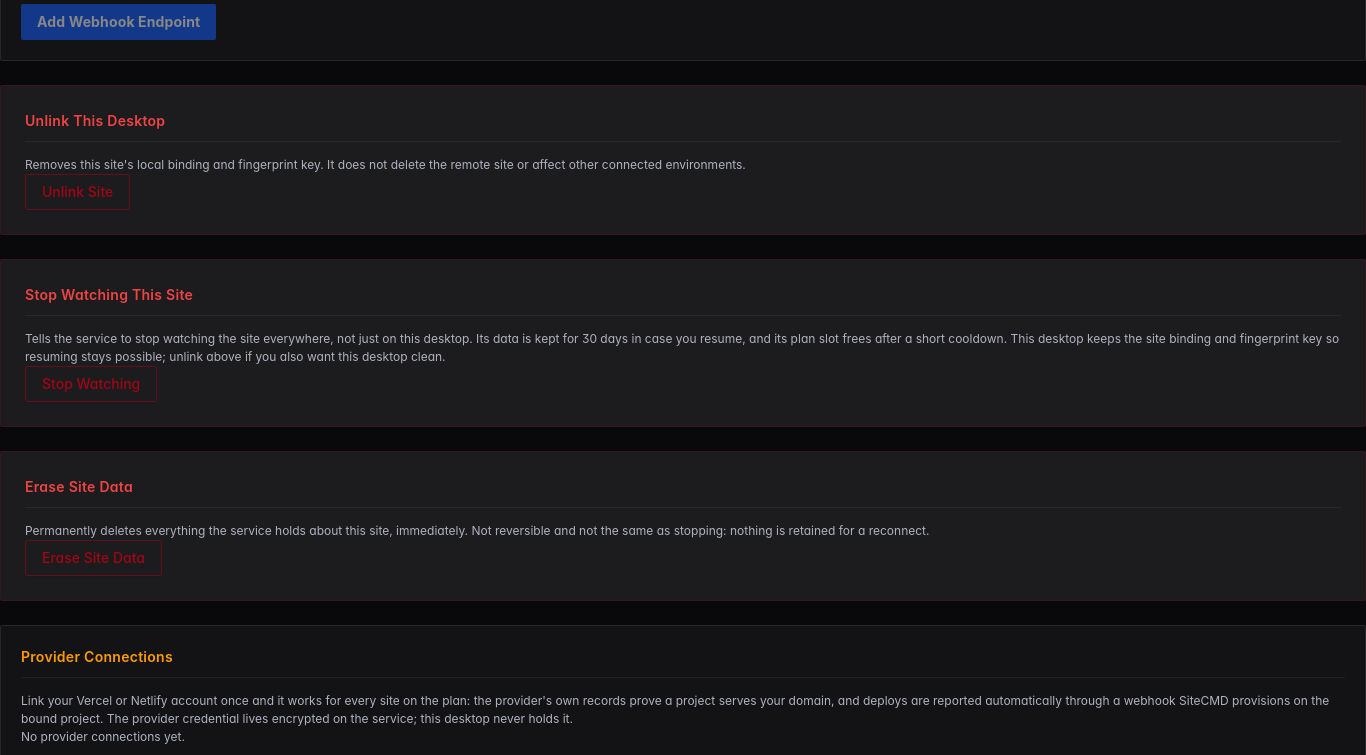
Scenario: ConnectedServiceSection › stops watching remotely, as a distinct act from unlinking this desktop
(page scrolled)
Click the button "Stop Watching".
click(91, 384)  # box [25,366,157,402]
(page scrolled)
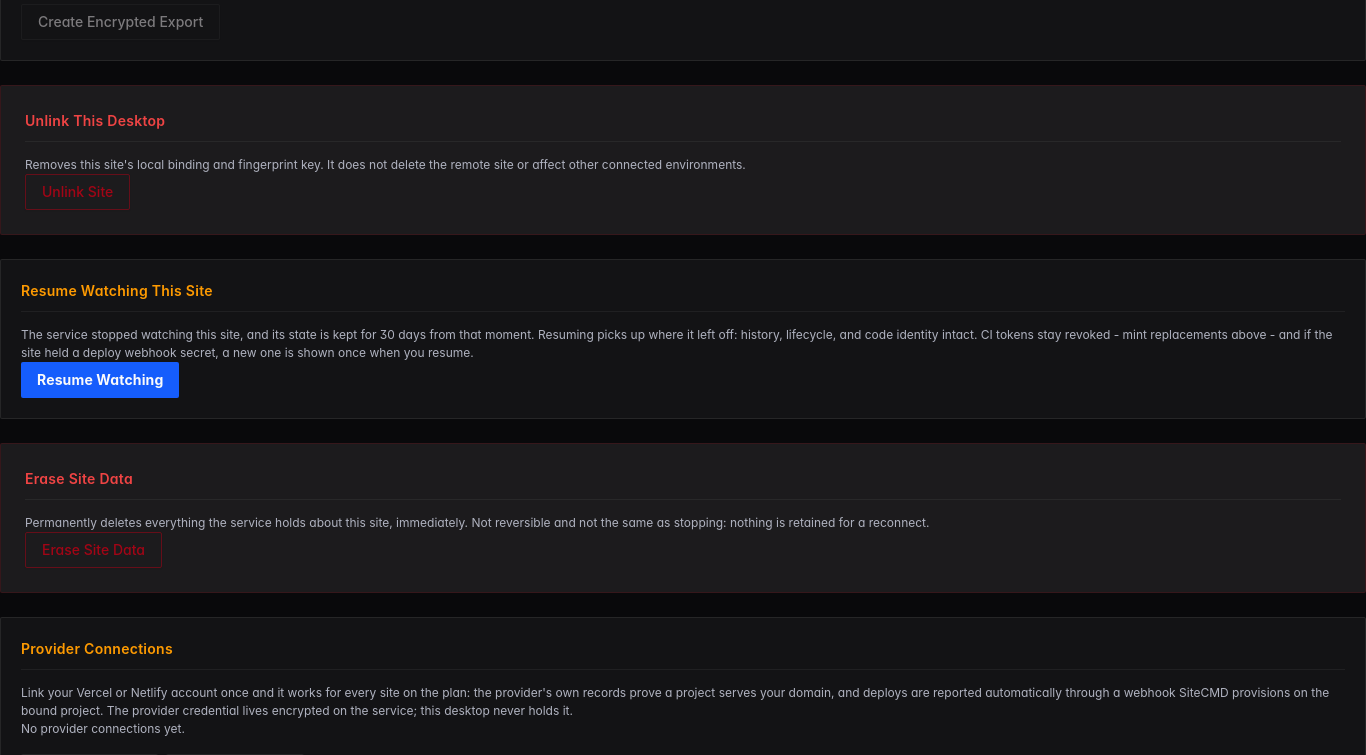
Expected: the text "does not delete the remote site" is shown, [25,157,746,172]
Result: the button "Resume Watching" is shown at [21,362,179,398]
